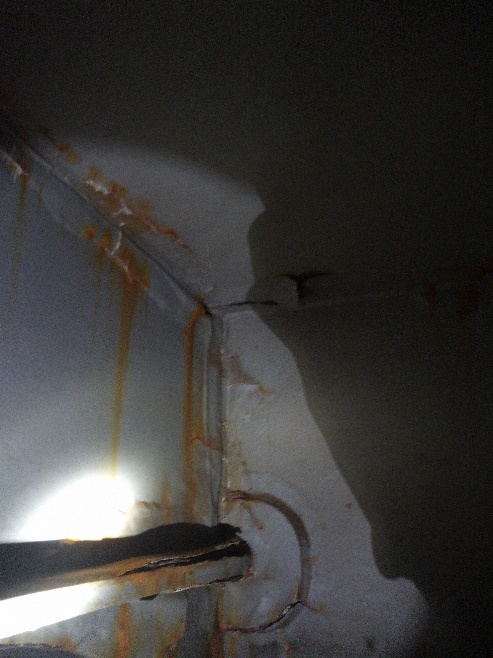corrosion: (20, 120, 167, 217), (174, 311, 219, 518), (77, 204, 172, 294), (111, 257, 143, 489), (68, 557, 207, 603), (146, 600, 226, 652), (16, 158, 37, 347), (85, 598, 142, 658)
